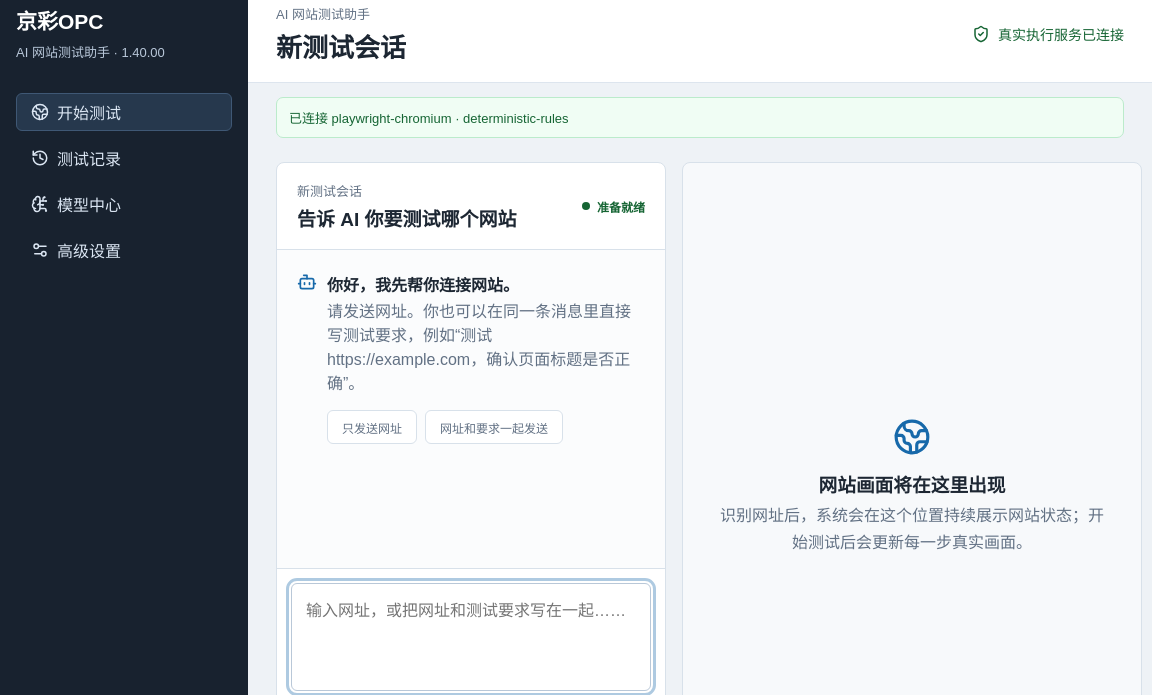
it: App › keeps an optional login entry and clears the unrelated old goal for a new website
The width and height of the screenshot is (1152, 695).
Expected: the text "真实执行服务已连接" is shown, [998, 24, 1124, 44]
Type "https://example.com" into the text box with placeholder "输入网址，或把网址和测试要求写在一起……" at x=471, y=637, box [291, 583, 651, 691]
(page scrolled)
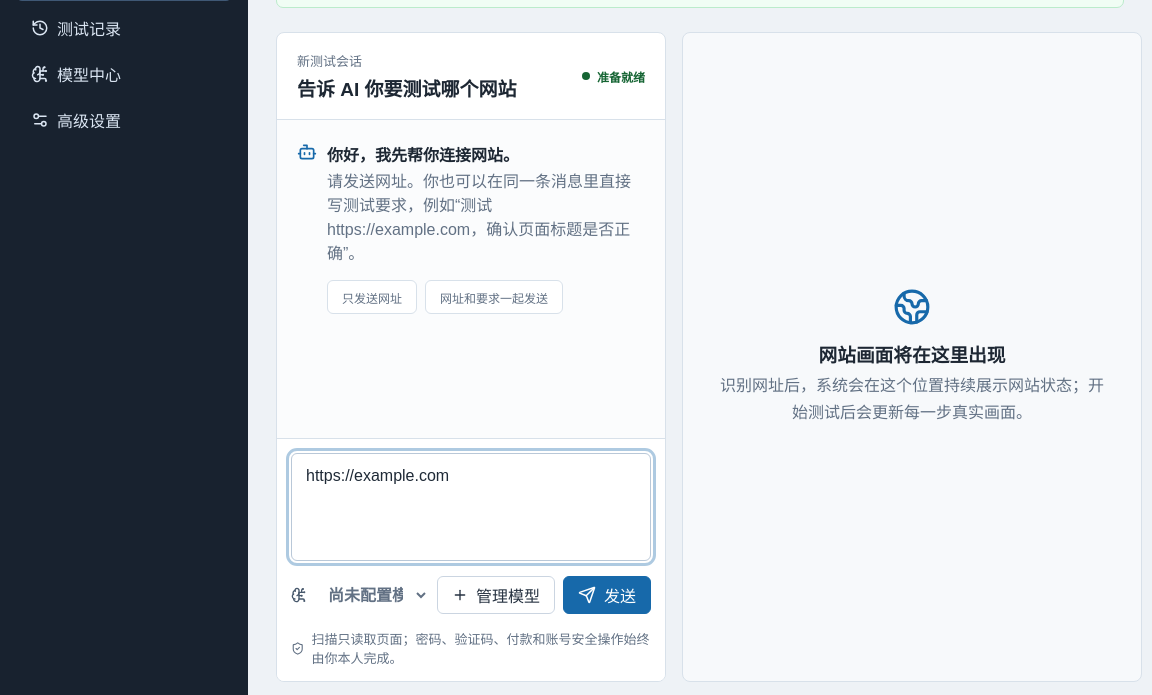
Click the button with aria-label "发送并识别网站" at x=607, y=595, box [563, 576, 651, 614]
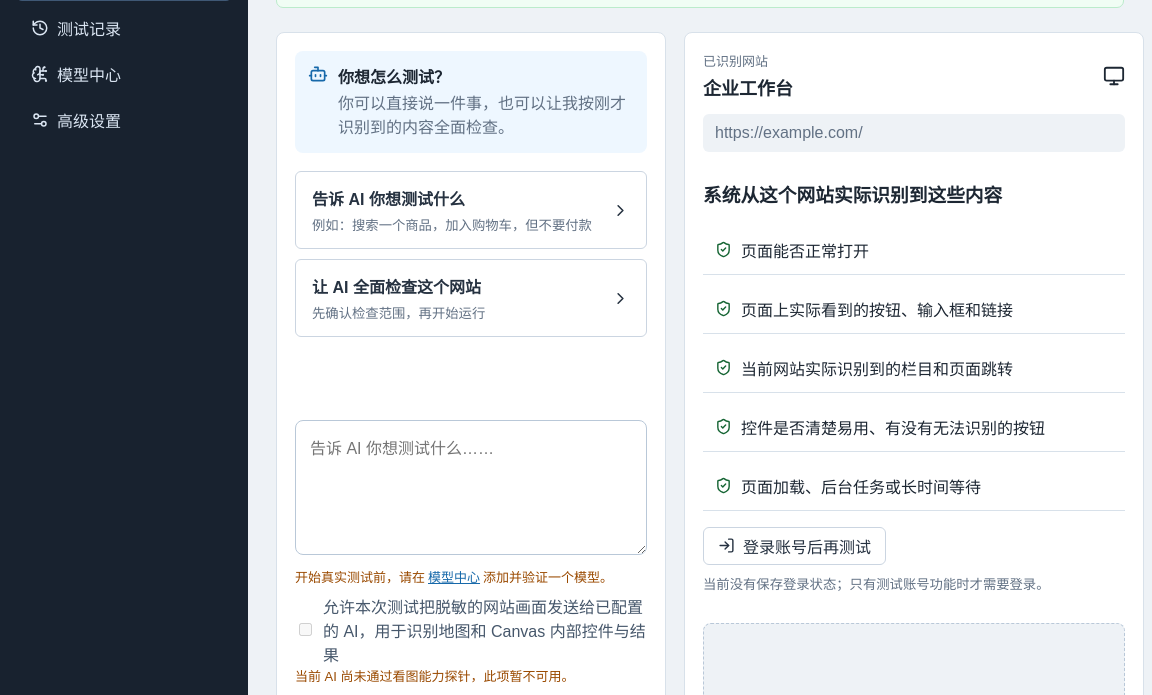
Result: the button "登录账号后再测试" is shown at [703, 527, 886, 565]
Result: the text "当前没有保存登录状态；只有测试账号功能时才需要登录。" is shown at [703, 575, 1050, 595]
Result: the text box with placeholder "告诉 AI 你想测试什么……" is empty at [295, 420, 647, 555]
